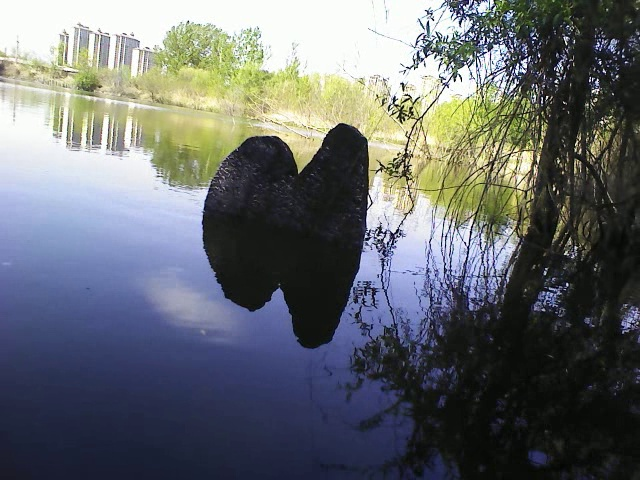rock: (203, 117, 375, 249)
